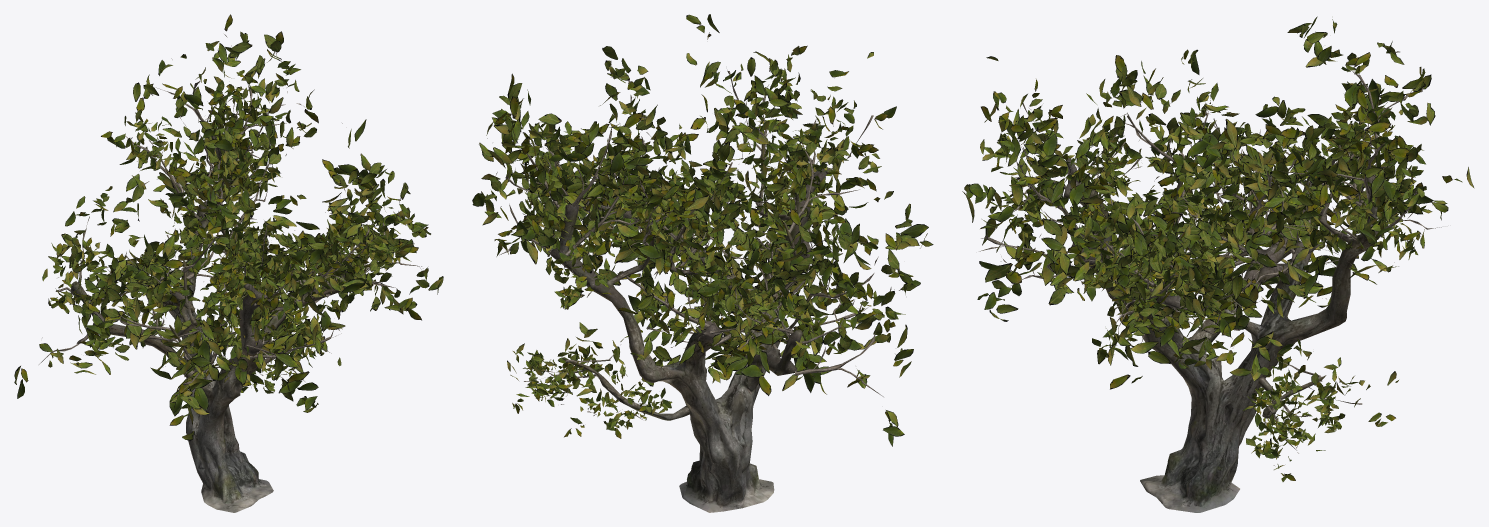
File: arv1-medio.glb
The picture shows the model from 3 angles, left to right: view 1: azimuth 30°, elevation 25°; view 2: azimuth 150°, elevation 25°; view 3: azimuth 270°, elevation 25°; orthographic projection. The views are drawn at different scales.
Visible parts, largest first — view 1: island_tree_01_LOD0; view 2: island_tree_01_LOD0; view 3: island_tree_01_LOD0.
Part boxes in pixels (bbox=[...]): island_tree_01_LOD0: bbox=[14, 14, 443, 512]; island_tree_01_LOD0: bbox=[472, 14, 933, 512]; island_tree_01_LOD0: bbox=[962, 16, 1474, 512].
Bounding box in the file's own units: 4.67 × 4.96 × 4.6.
Materials: 3 (3 with a texture image).
